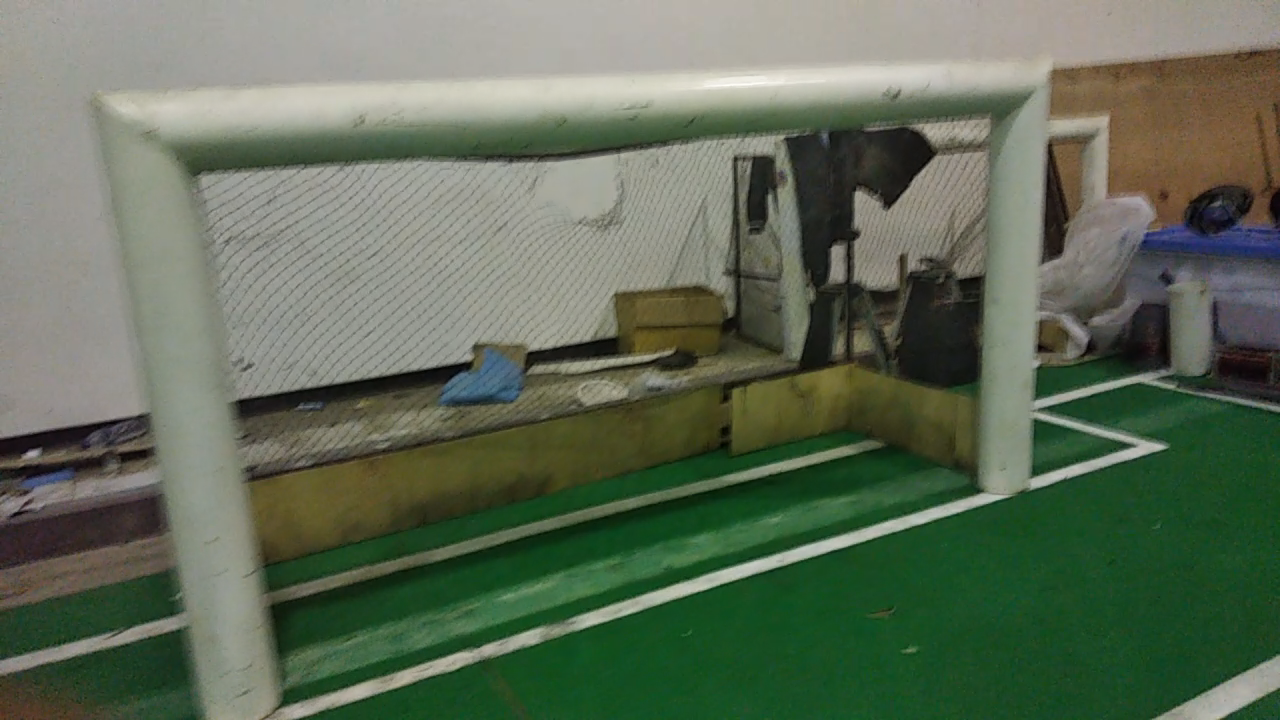gawang: (76, 31, 1056, 713)
